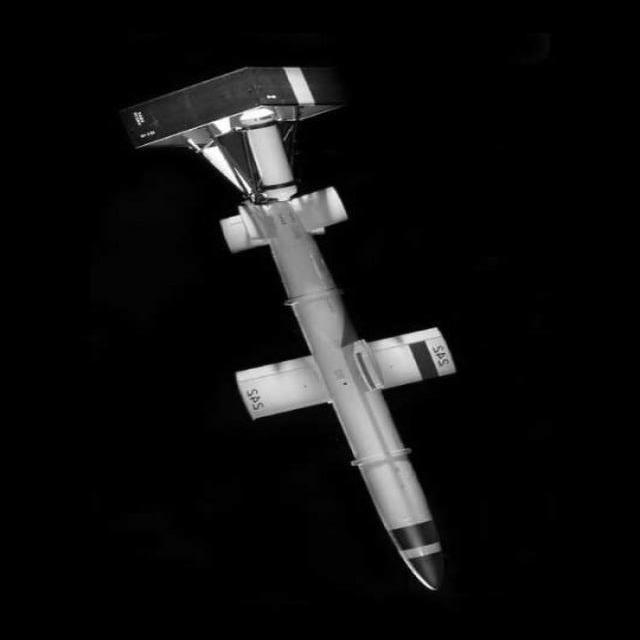missile: (210, 171, 473, 616)
